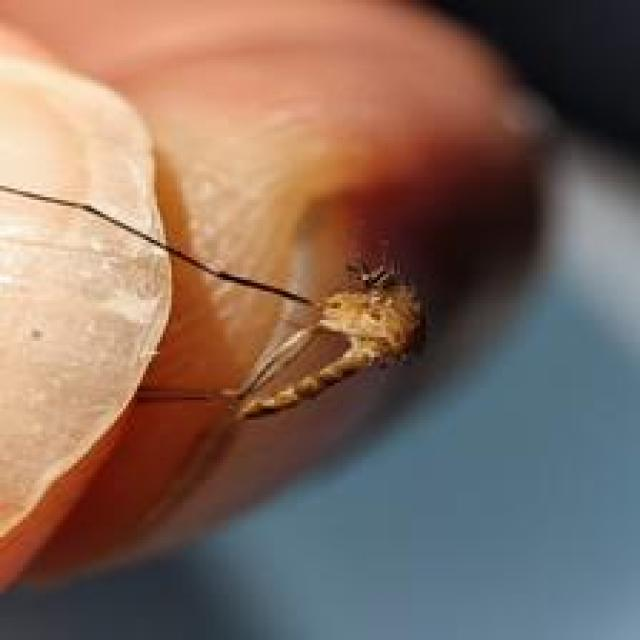Culex: (0, 166, 429, 426)
